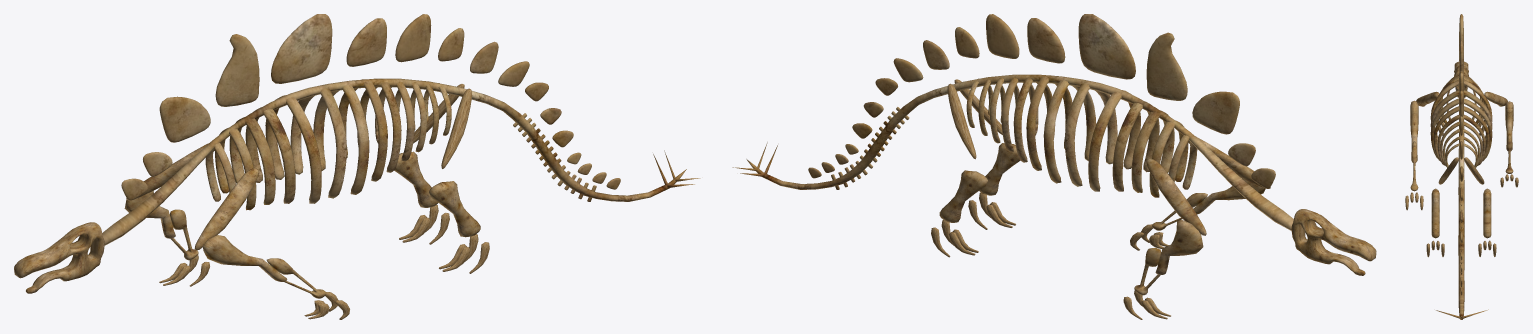
Rendered from Stegosaurus.FBX.
3 views of the same model, side by side, from view 1: azimuth 30°, elevation 25°; view 2: azimuth 150°, elevation 25°; view 3: azimuth 270°, elevation 25° (orthographic). The views are drawn at different scales.
Visible parts, largest first — view 1: Spine, Ribs, Head, Left Forearm, Left Arm, Right Forearm, Left Foot, Right Foot, Left Leg, Left Toes, Right Toes, Right Arm (+2 smaller); view 2: Spine, Ribs, Head, Right Forearm, Right Arm, Right Foot, Left Forearm, Left Foot, Right Leg, Left Toes, Right Toes, Left Arm (+2 smaller); view 3: Ribs, Spine, Left Forearm, Right Forearm, Right Foot, Left Foot, Right Arm, Left Arm, Right Leg, Left Leg, Left Fingers, Head (+3 smaller).
Boxes of the visible parts, box(x1,y1,x2,y2) form: Spine: box(102, 14, 700, 245); Ribs: box(205, 79, 451, 210); Head: box(14, 222, 104, 293); Left Forearm: box(203, 235, 326, 298); Left Arm: box(194, 168, 258, 250); Right Forearm: box(124, 191, 198, 260); Left Foot: box(429, 181, 480, 237); Right Foot: box(394, 151, 437, 207); Left Leg: box(441, 88, 472, 168); Left Toes: box(439, 234, 489, 273); Right Toes: box(399, 205, 449, 244); Right Arm: box(126, 143, 214, 200); Spine: box(732, 14, 1293, 230); Ribs: box(966, 75, 1197, 197); Head: box(1291, 209, 1376, 275); Right Forearm: box(1134, 220, 1203, 295); Right Arm: box(1146, 159, 1206, 235); Right Foot: box(939, 170, 987, 222); Left Forearm: box(1152, 178, 1265, 230); Left Foot: box(979, 143, 1020, 195); Right Leg: box(947, 83, 976, 159); Left Toes: box(968, 192, 1015, 229); Right Toes: box(931, 220, 978, 257); Left Arm: box(1188, 136, 1270, 188); Ribs: box(1430, 74, 1492, 167); Spine: box(1436, 14, 1488, 319); Left Forearm: box(1410, 100, 1418, 191); Right Forearm: box(1505, 101, 1513, 173); Right Foot: box(1483, 188, 1491, 238); Left Foot: box(1431, 188, 1439, 238); Right Arm: box(1484, 91, 1507, 106); Left Arm: box(1416, 91, 1439, 106); Right Leg: box(1464, 157, 1484, 184); Left Leg: box(1438, 157, 1458, 184); Left Fingers: box(1405, 192, 1423, 210); Head: box(1454, 61, 1468, 97).
Size of the model in its own units: 173 by 67.23 by 39.16.
1 material, 1 textured.
